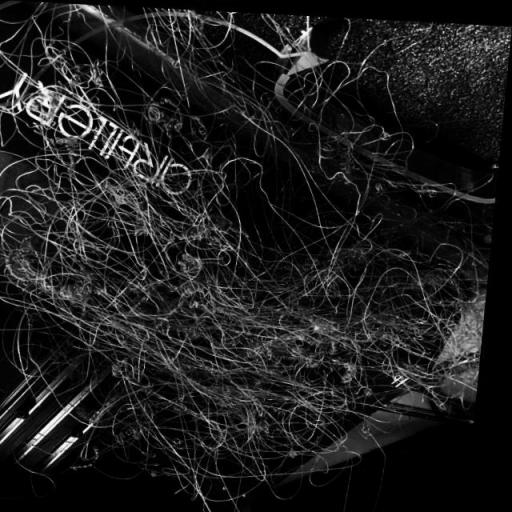spaghetti_and_stringing: (152, 342, 328, 498), (104, 214, 260, 332), (252, 232, 375, 349), (82, 328, 177, 455), (371, 260, 462, 372), (0, 196, 106, 290), (21, 52, 121, 150), (298, 154, 402, 248), (119, 118, 212, 216), (146, 8, 240, 101), (298, 348, 376, 457), (266, 72, 365, 152), (8, 284, 99, 370)
